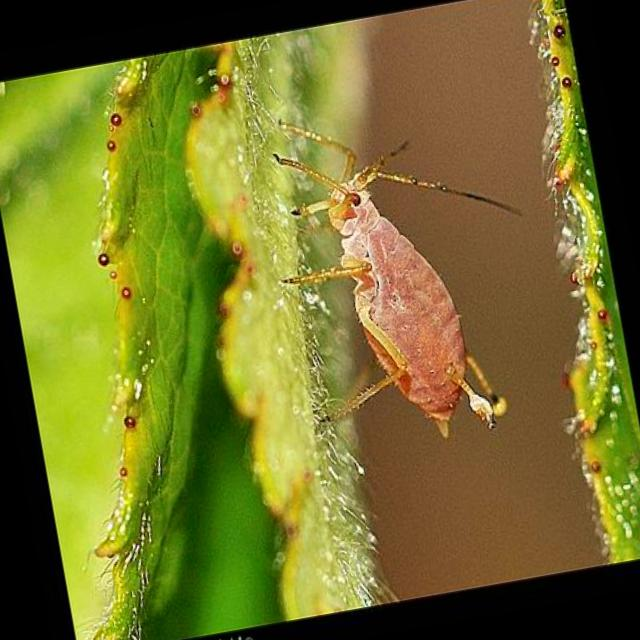Aphids: (250, 82, 546, 466)
